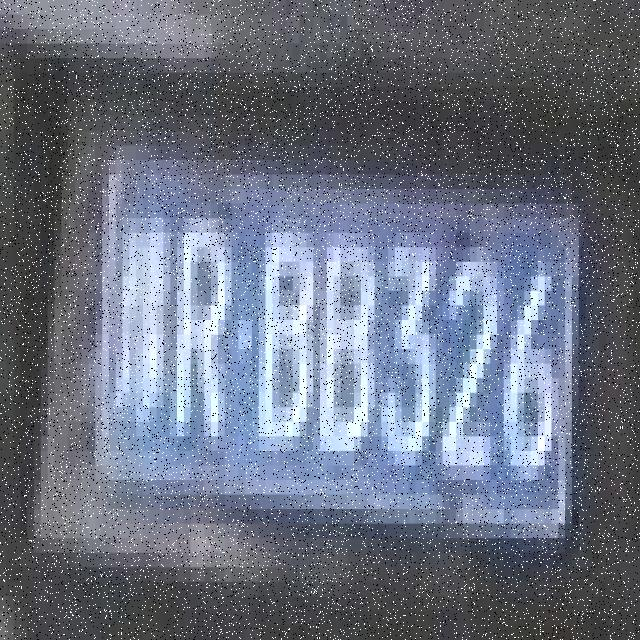licenseplate: (92, 120, 585, 550)
